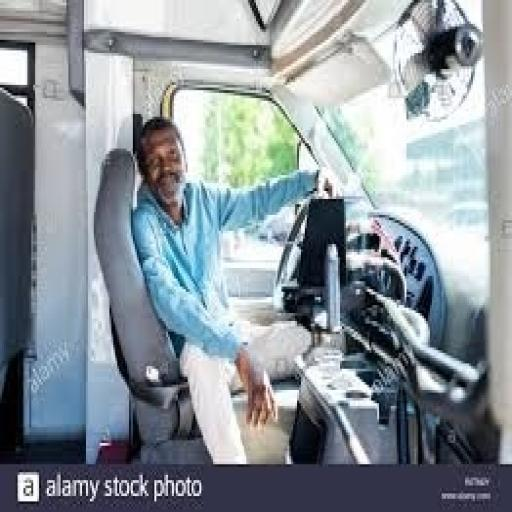sitting: (127, 114, 336, 464)
